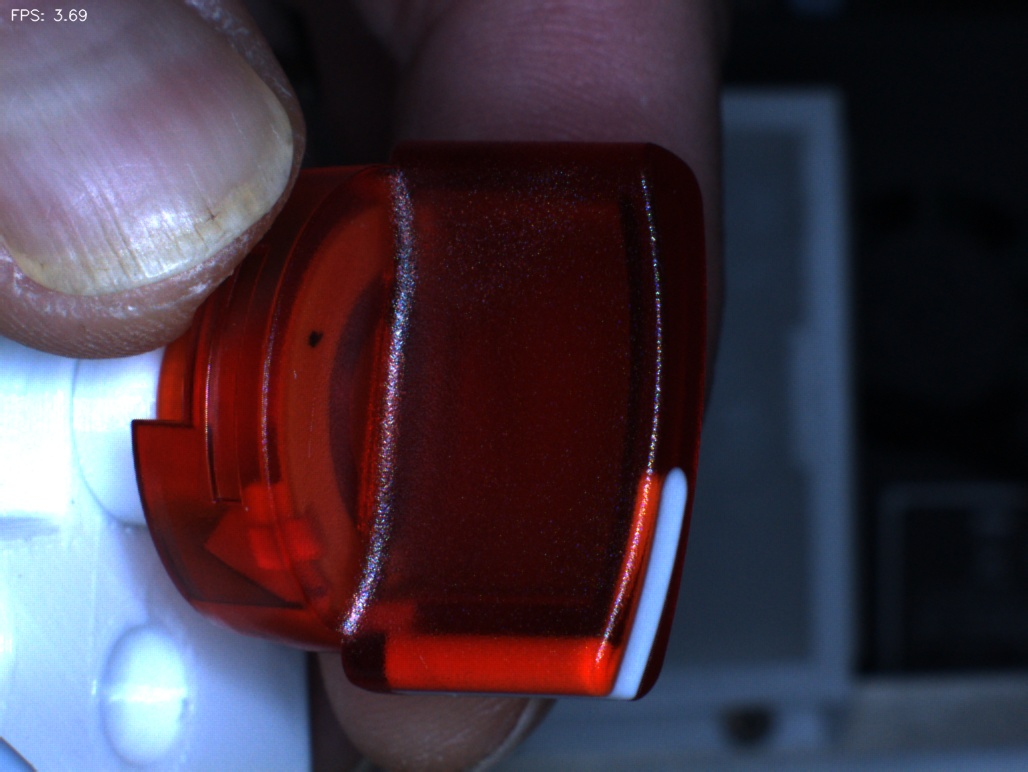PointNoir: (276, 293, 352, 381)
